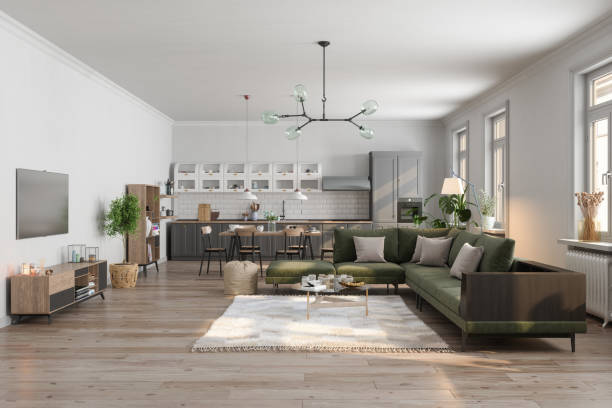TV: (13, 166, 71, 240)
TV stand: (7, 260, 109, 324)
dining table set: (196, 219, 333, 278)
floor lamp: (441, 167, 484, 227)
flower vase: (573, 189, 606, 243)
large plant: (104, 193, 141, 290)
sofa: (266, 224, 587, 352)
table: (291, 267, 371, 323)
